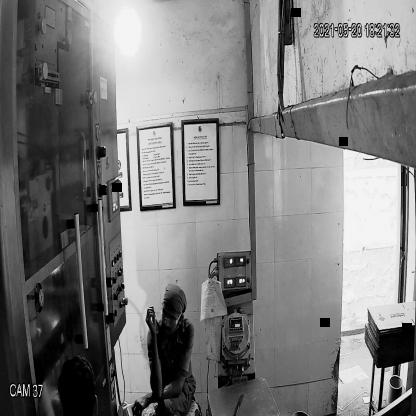goggles: (158, 305, 184, 329)
